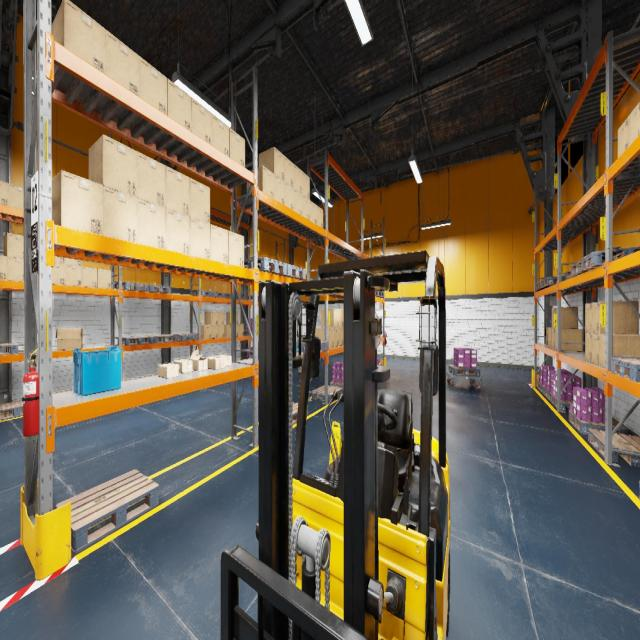box: (51, 0, 105, 73), (52, 170, 103, 235), (88, 134, 137, 197), (106, 29, 139, 96), (103, 185, 137, 242), (139, 56, 167, 115), (138, 151, 166, 208), (592, 301, 638, 334), (138, 198, 166, 249), (600, 333, 640, 368), (167, 79, 191, 131), (166, 166, 190, 216), (166, 209, 190, 254), (192, 97, 212, 145), (258, 146, 284, 181), (190, 178, 210, 223), (247, 165, 274, 198), (190, 217, 210, 259), (212, 113, 229, 157), (210, 224, 228, 263), (555, 328, 583, 352), (229, 128, 245, 167), (56, 328, 84, 350), (228, 230, 244, 266), (552, 307, 578, 328), (4, 232, 24, 258), (617, 115, 629, 158), (629, 101, 640, 146), (7, 256, 24, 282), (315, 327, 334, 348), (9, 183, 23, 209), (552, 328, 569, 349), (66, 264, 82, 286), (190, 350, 207, 370), (284, 155, 294, 188), (321, 308, 338, 327), (82, 266, 97, 287), (158, 363, 178, 378), (274, 174, 284, 204), (52, 263, 65, 285), (284, 182, 294, 210), (97, 268, 111, 288), (174, 359, 192, 373), (294, 164, 302, 194), (206, 356, 224, 369), (592, 333, 599, 365), (585, 332, 592, 362), (294, 189, 302, 215), (585, 303, 592, 332), (0, 180, 8, 205), (302, 171, 309, 199), (302, 194, 309, 220), (216, 355, 232, 366), (0, 255, 7, 280), (198, 325, 211, 338), (205, 311, 218, 324), (544, 327, 552, 345), (310, 200, 316, 224), (226, 312, 238, 324), (317, 205, 323, 228), (66, 258, 82, 266), (54, 256, 66, 264), (334, 328, 339, 347), (224, 324, 231, 337), (211, 325, 218, 338), (548, 328, 552, 348), (218, 325, 224, 338), (339, 327, 343, 346), (339, 309, 343, 327), (238, 324, 244, 336), (218, 312, 224, 324), (236, 324, 238, 336), (37, 274, 37, 282)
forklift: (256, 250, 450, 639)
pallets: (55, 469, 158, 554), (588, 428, 640, 467), (569, 410, 629, 436), (581, 246, 640, 272), (244, 256, 287, 276), (611, 357, 640, 382), (312, 385, 343, 403), (571, 260, 605, 276), (0, 342, 37, 354), (0, 401, 23, 420), (279, 264, 306, 280), (550, 394, 573, 412), (292, 402, 308, 424), (297, 341, 329, 352), (448, 365, 480, 376), (115, 282, 149, 292), (118, 336, 154, 345), (542, 276, 566, 288), (146, 334, 177, 343), (148, 284, 170, 294), (172, 334, 198, 341), (193, 290, 216, 297), (212, 292, 231, 298), (543, 387, 551, 401), (537, 381, 544, 394), (330, 382, 343, 389), (536, 281, 545, 290), (565, 270, 572, 280), (375, 291, 384, 297), (236, 295, 246, 299), (244, 330, 252, 334), (639, 481, 640, 500), (375, 292, 378, 296), (258, 296, 258, 300)
